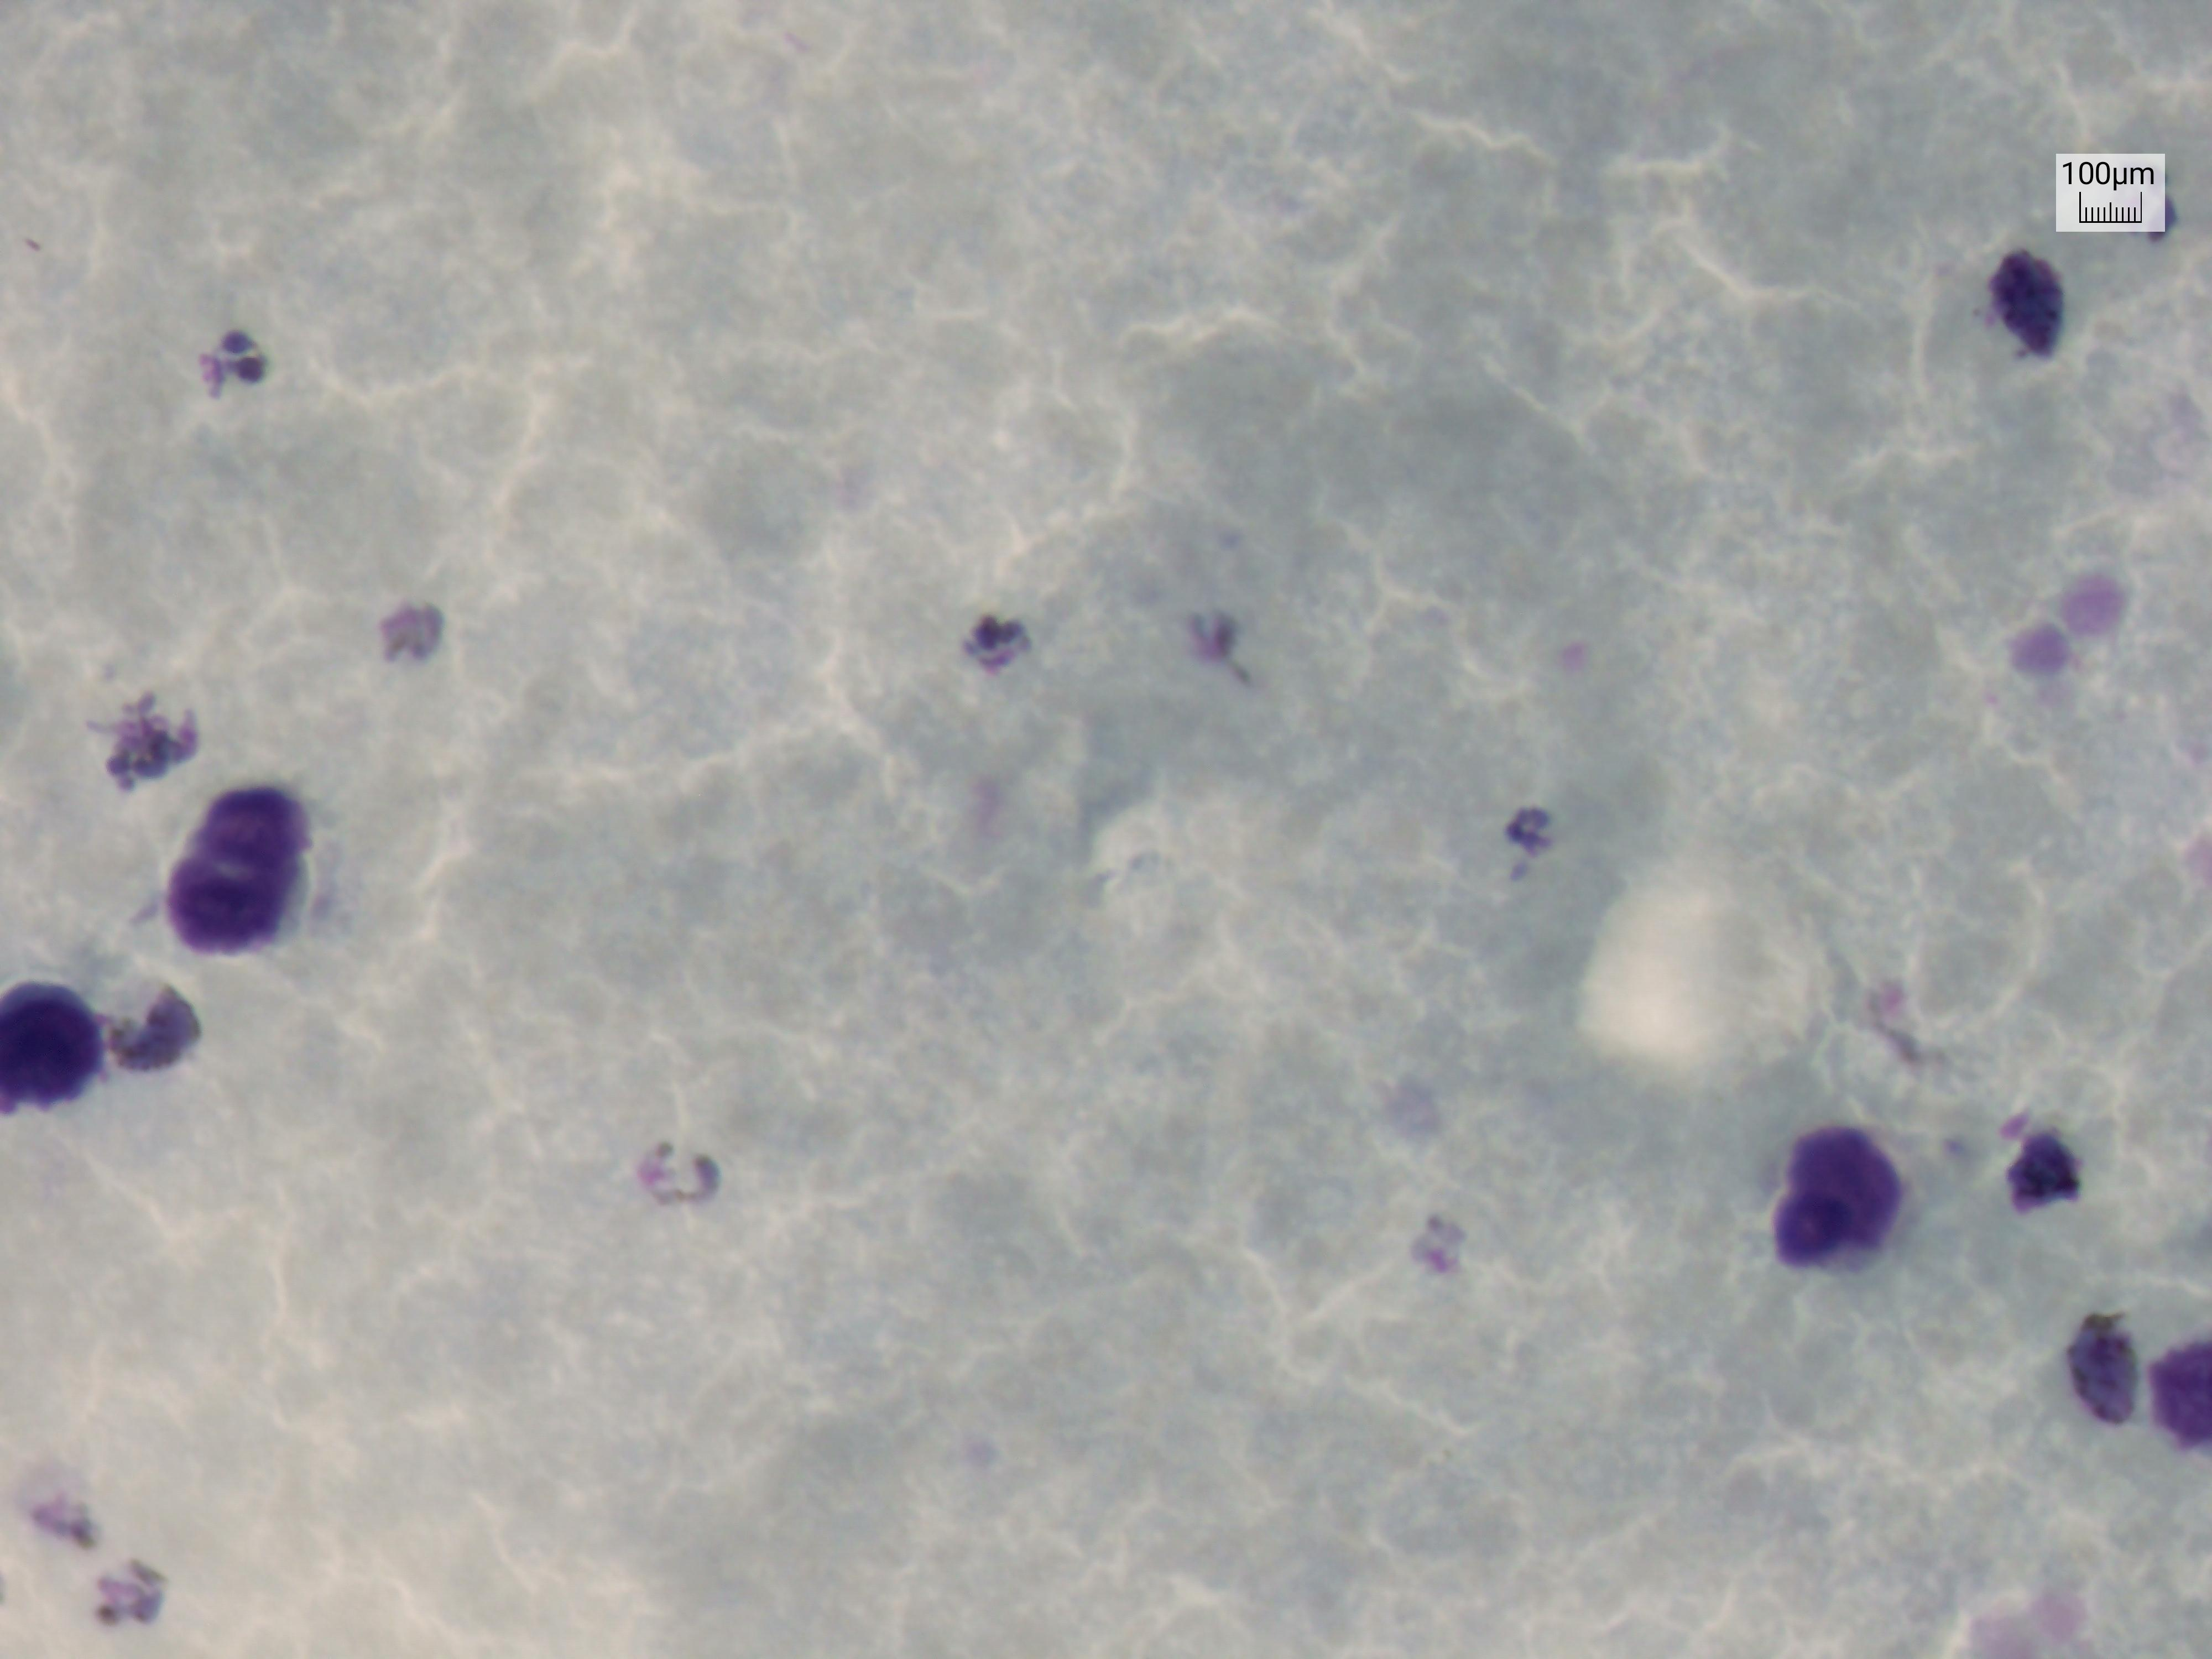p.vivax: (1973, 207, 2087, 376), (179, 307, 310, 444), (627, 1124, 765, 1248), (1986, 1082, 2097, 1227), (2057, 1295, 2148, 1455), (99, 993, 235, 1091), (99, 681, 204, 791), (1477, 781, 1568, 899), (956, 594, 1035, 706)
